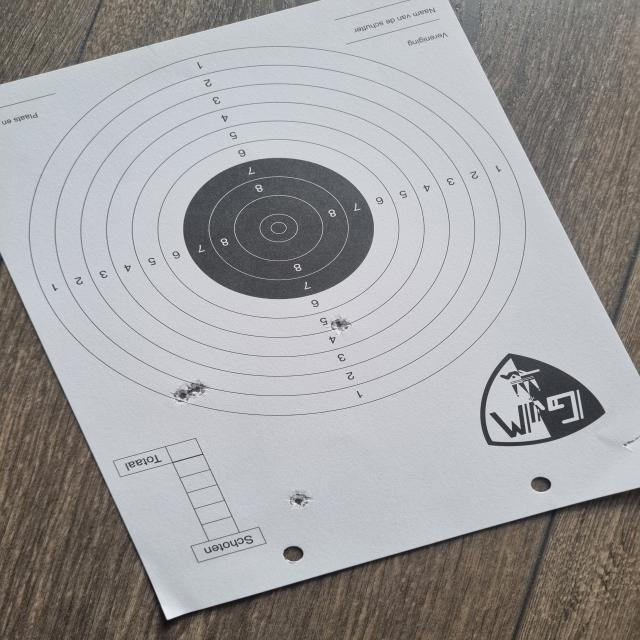1: (170, 388, 190, 402)
3: (186, 379, 206, 396)
6: (330, 319, 350, 331)
Black Contour: (183, 157, 374, 299)
Target: (29, 44, 528, 418)
hole: (289, 494, 309, 508)
